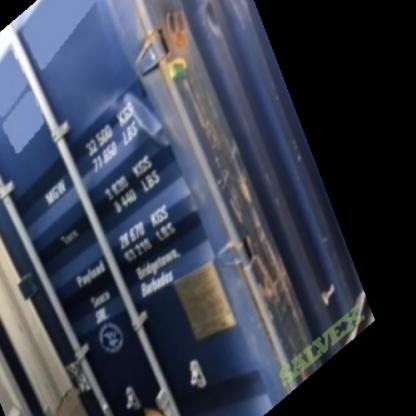Damage: (173, 5, 303, 375), (106, 70, 168, 143)
